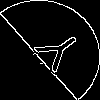Y: (25, 25, 87, 79)
